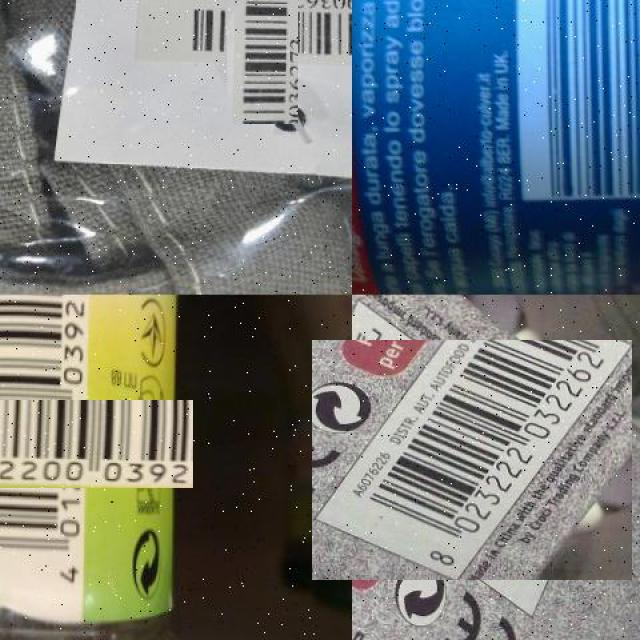Barcode: (332, 320, 613, 600), (505, 0, 639, 210), (0, 348, 141, 541), (200, 0, 324, 98)
